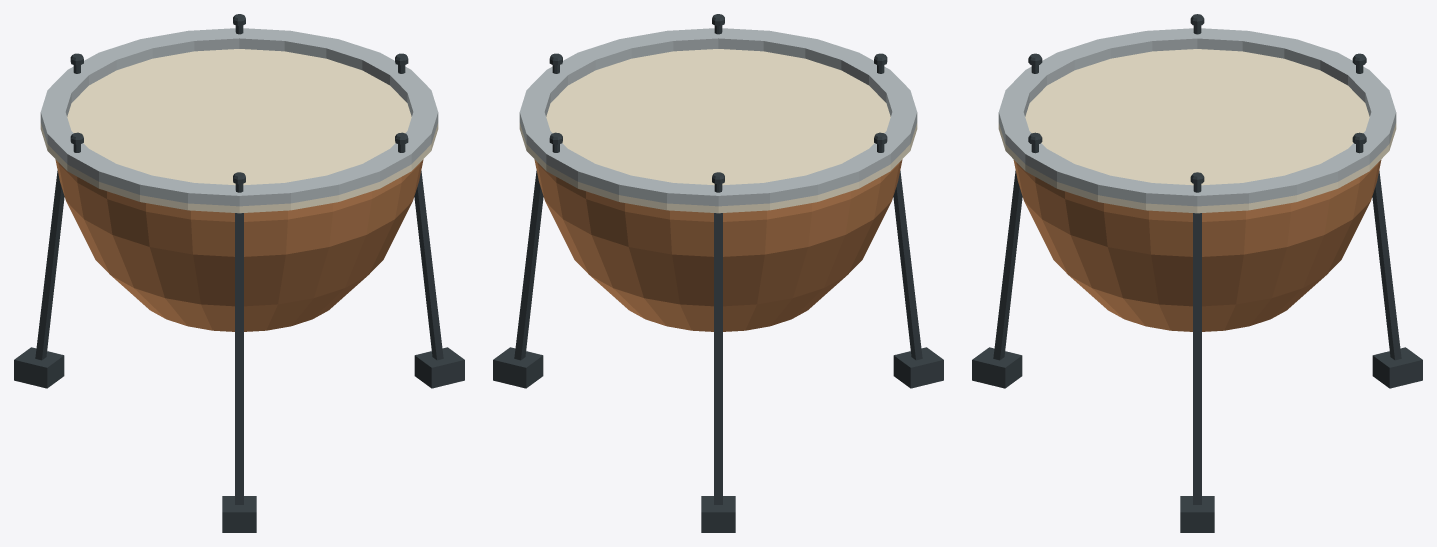
3 views of the same model, side by side, from view 1: azimuth 30°, elevation 25°; view 2: azimuth 150°, elevation 25°; view 3: azimuth 270°, elevation 25° (orthographic).
Parts seen in each view (by area): view 1: FullParchmentDrumHead, WholeThickCopperKettleBowl, RaisedAnnularCounterhoop, CompleteSplayedLeg_02, CompleteSplayedLeg_00, CompleteSplayedLeg_01, FlatGroundPad_00, FlatGroundPad_01, FlatGroundPad_02; view 2: FullParchmentDrumHead, WholeThickCopperKettleBowl, RaisedAnnularCounterhoop, CompleteSplayedLeg_01, CompleteSplayedLeg_00, CompleteSplayedLeg_02, FlatGroundPad_00, FlatGroundPad_02, FlatGroundPad_01; view 3: FullParchmentDrumHead, WholeThickCopperKettleBowl, RaisedAnnularCounterhoop, CompleteSplayedLeg_00, CompleteSplayedLeg_01, CompleteSplayedLeg_02, FlatGroundPad_01, FlatGroundPad_02, FlatGroundPad_00.
Boxes of the visible parts, <box> form: FullParchmentDrumHead: <box>40,49,438,213</box>; WholeThickCopperKettleBowl: <box>55,159,423,331</box>; RaisedAnnularCounterhoop: <box>40,28,438,206</box>; CompleteSplayedLeg_02: <box>235,213,243,504</box>; CompleteSplayedLeg_00: <box>414,171,443,360</box>; CompleteSplayedLeg_01: <box>35,171,64,360</box>; FlatGroundPad_00: <box>414,347,464,388</box>; FlatGroundPad_01: <box>14,347,64,388</box>; FlatGroundPad_02: <box>222,496,256,532</box>; FullParchmentDrumHead: <box>519,49,917,213</box>; WholeThickCopperKettleBowl: <box>534,159,902,331</box>; RaisedAnnularCounterhoop: <box>519,28,917,206</box>; CompleteSplayedLeg_01: <box>714,213,722,504</box>; CompleteSplayedLeg_00: <box>514,171,543,360</box>; CompleteSplayedLeg_02: <box>893,171,922,360</box>; FlatGroundPad_00: <box>493,347,543,388</box>; FlatGroundPad_02: <box>893,347,943,388</box>; FlatGroundPad_01: <box>701,496,735,532</box>; FullParchmentDrumHead: <box>998,49,1396,213</box>; WholeThickCopperKettleBowl: <box>1013,160,1381,331</box>; RaisedAnnularCounterhoop: <box>998,28,1396,206</box>; CompleteSplayedLeg_00: <box>1193,213,1201,504</box>; CompleteSplayedLeg_01: <box>1372,171,1401,360</box>; CompleteSplayedLeg_02: <box>993,171,1022,360</box>; FlatGroundPad_01: <box>1372,347,1422,388</box>; FlatGroundPad_02: <box>972,347,1022,388</box>; FlatGroundPad_00: <box>1180,496,1214,532</box>.
Size of the model in its own units: 1.17 by 0.958 by 1.18.
